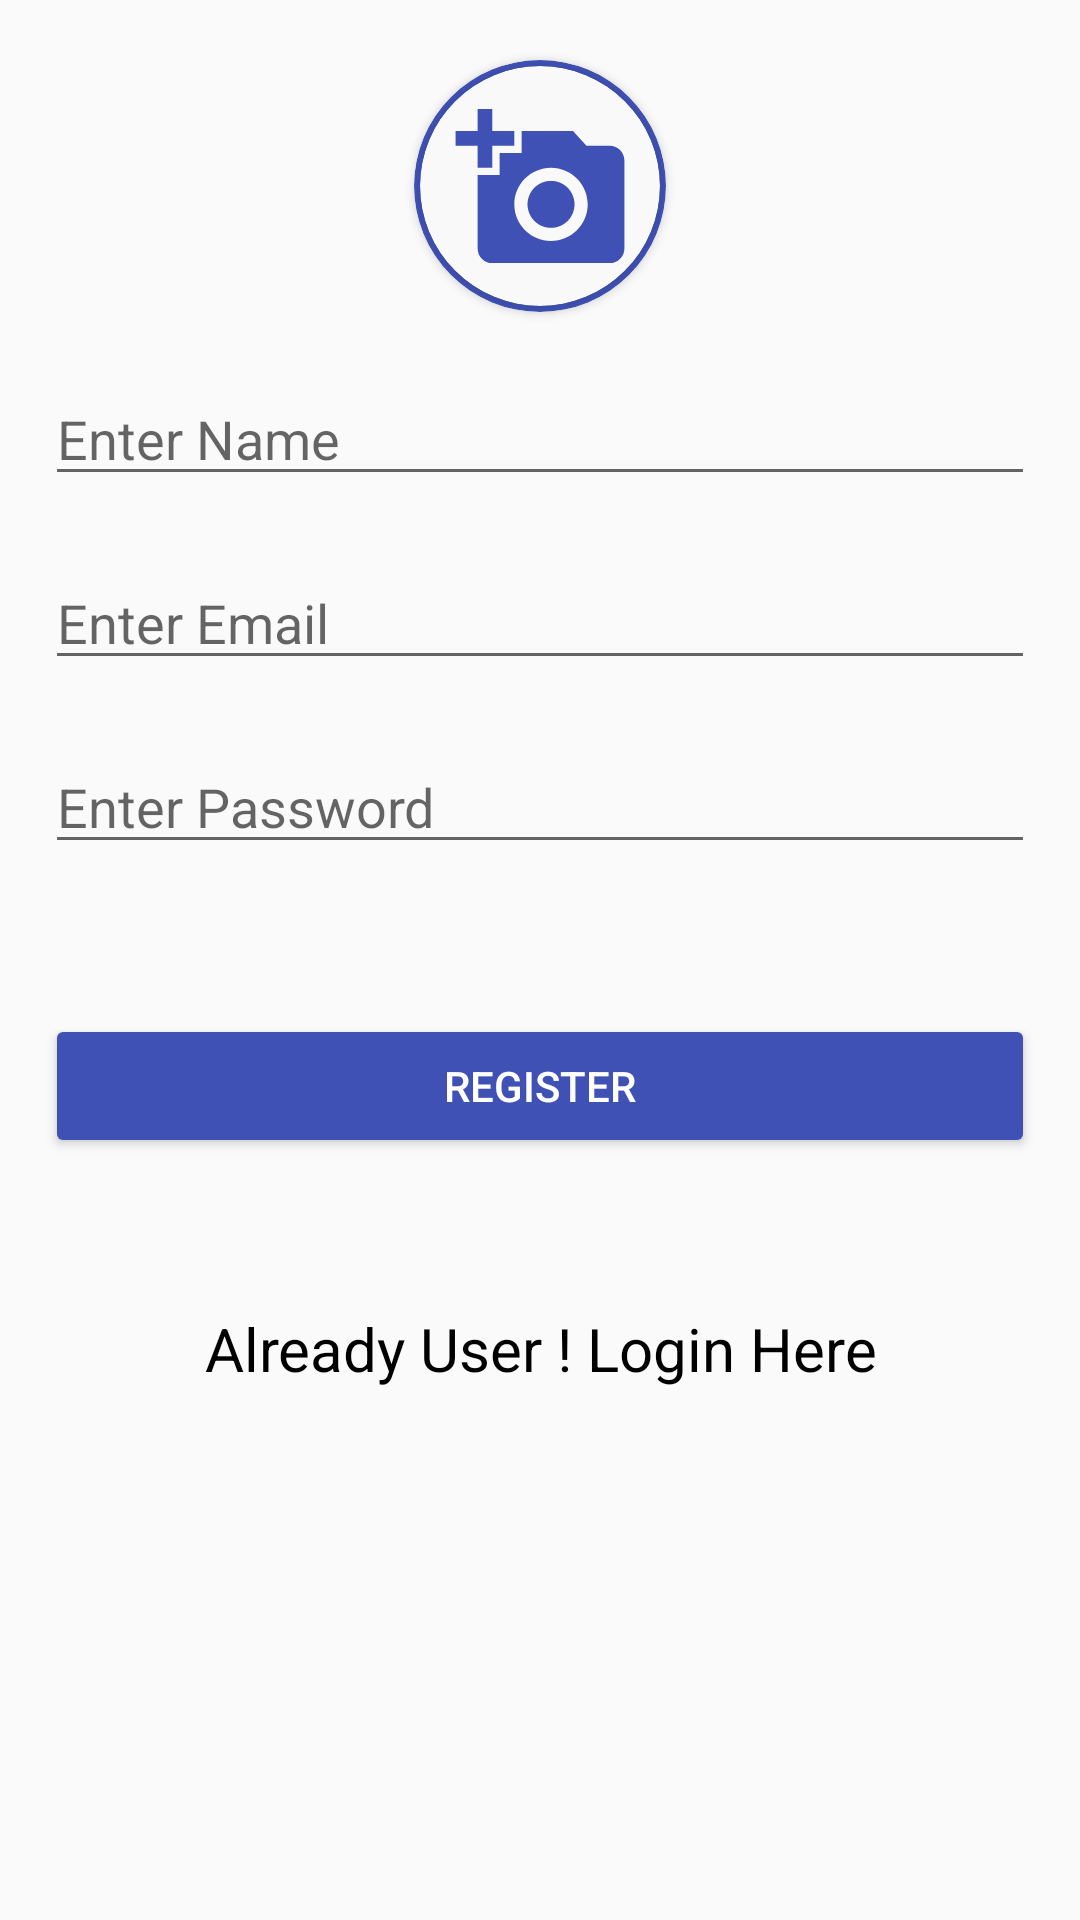

Icon click points for this 1080px×1920px phone screenshot, format point (x, y):
add pic: point (540, 186)
